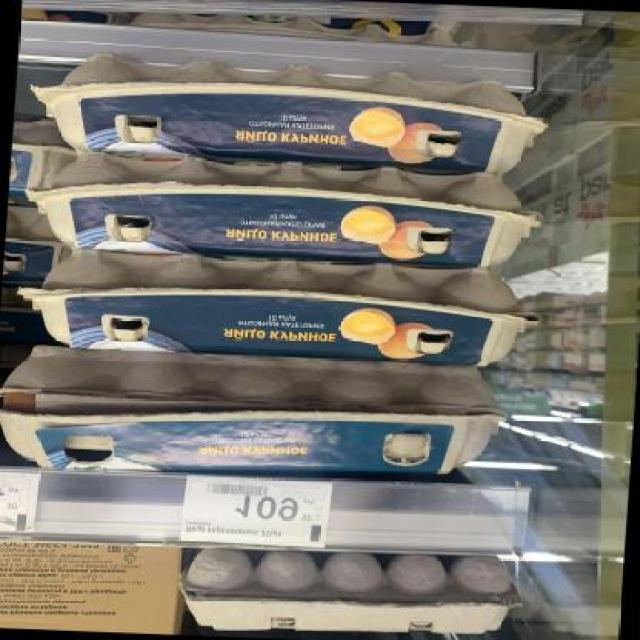Egg: (0, 346, 512, 485), (34, 57, 550, 179), (27, 154, 541, 273), (20, 252, 538, 368), (7, 117, 61, 206)
